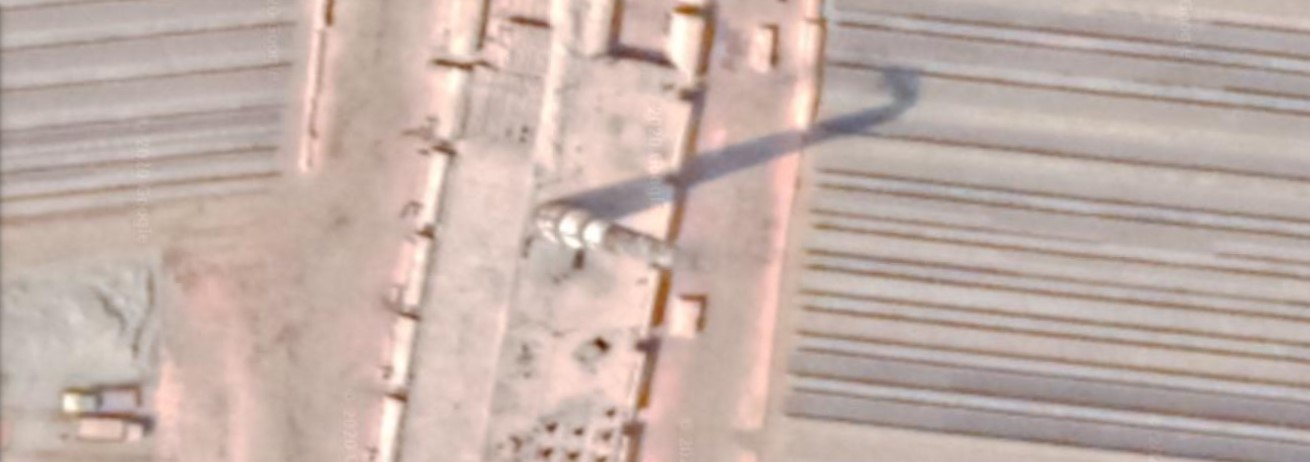kiln: (433, 9, 792, 462)
